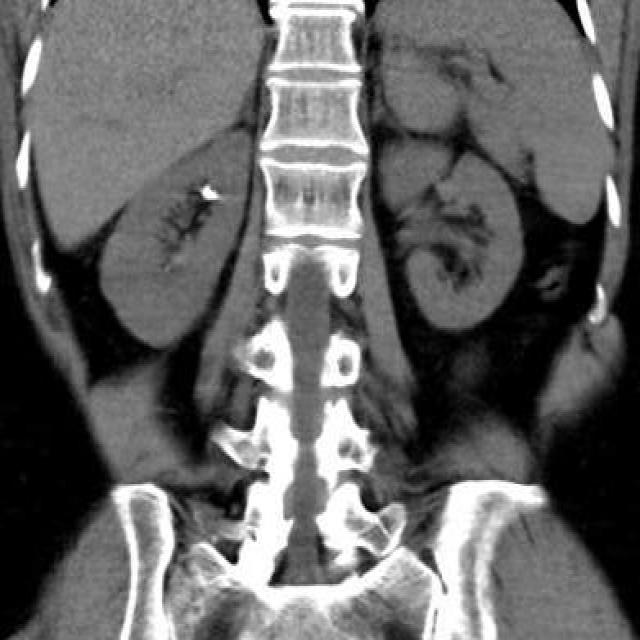Tas_Var: (199, 182, 218, 202)
